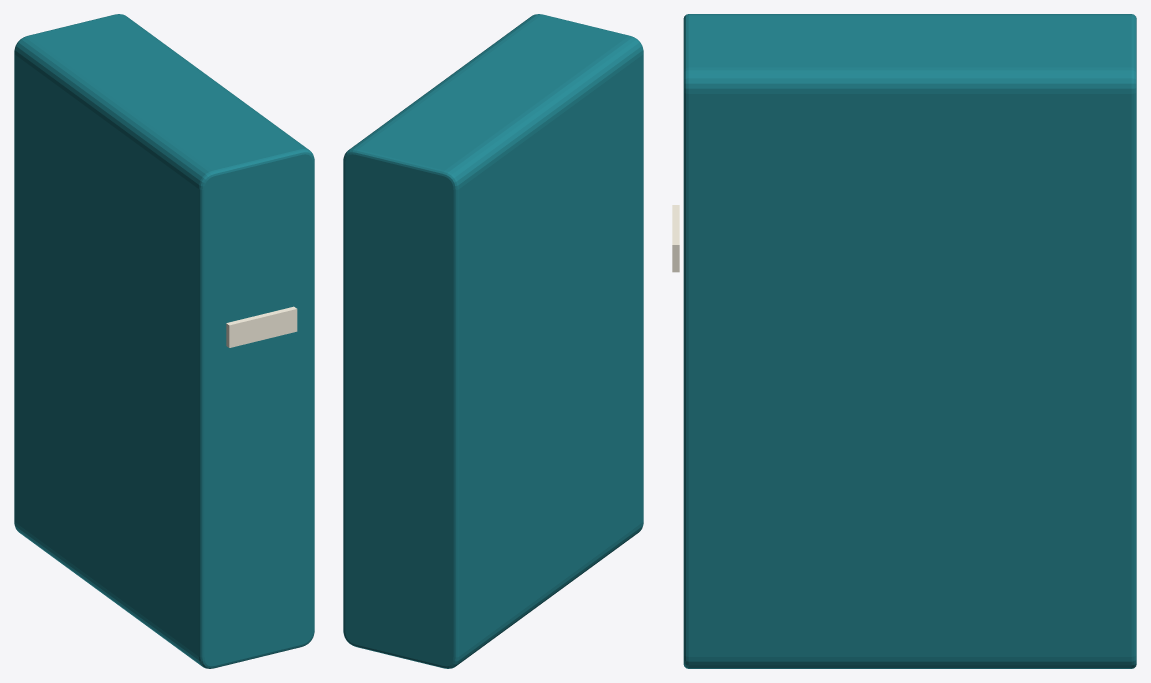
The model's file is book-3.glb.
The picture shows the model from 3 angles, left to right: view 1: azimuth 30°, elevation 25°; view 2: azimuth 150°, elevation 25°; view 3: azimuth 270°, elevation 25°; orthographic projection. The views are drawn at different scales.
Visible parts, largest first — view 1: book-3; view 2: book-3; view 3: book-3.
Boxes of the visible parts, x1,y1,x2,y2 form: book-3: (14,14,314,668); book-3: (343,14,643,668); book-3: (672,14,1136,668).
Size of the model in its own units: 0.085 by 0.35 by 0.246.
